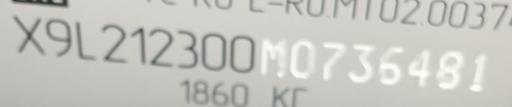letter: (12, 13, 46, 56), (44, 17, 74, 58), (434, 49, 464, 90), (318, 39, 346, 82), (100, 22, 128, 63), (148, 27, 176, 68), (348, 41, 374, 84), (200, 32, 228, 71), (227, 33, 255, 72), (288, 39, 316, 78), (376, 45, 404, 84), (174, 28, 200, 69), (260, 36, 286, 77), (404, 46, 430, 87), (74, 17, 98, 60), (468, 50, 486, 93), (130, 25, 148, 64)
